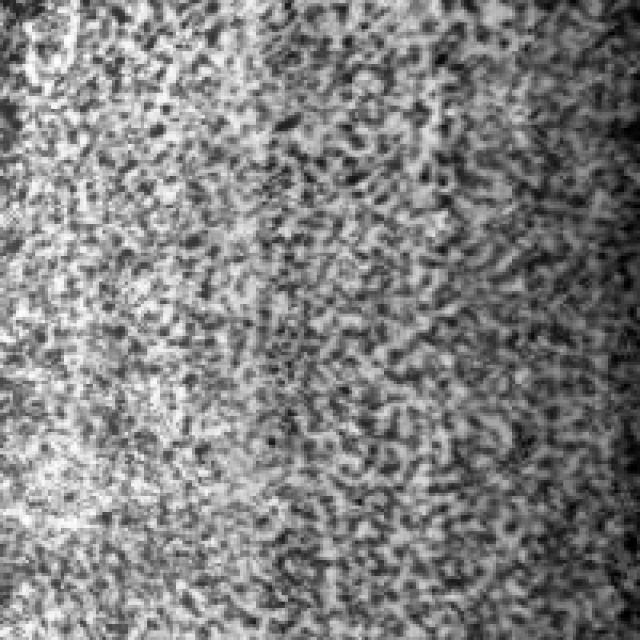Rolled_in_Scale: (179, 0, 630, 630)
